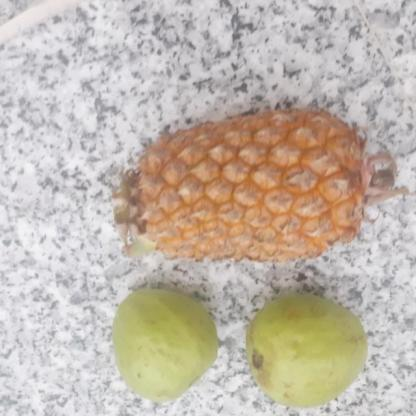guava: (243, 299, 365, 404), (108, 292, 216, 400)
pineapple: (111, 106, 380, 264)
